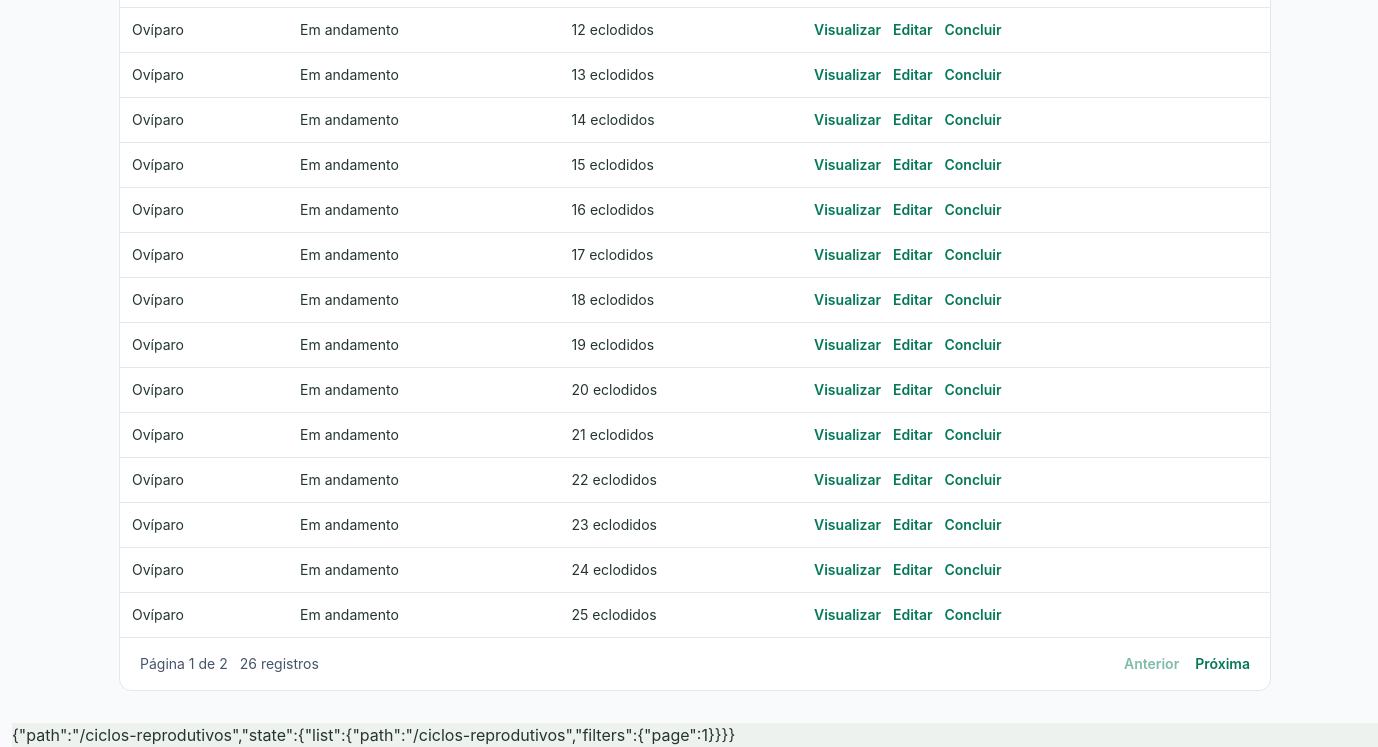
Scenario: ReproductiveCycleListPage pagination › ignores late page and filter responses after a newer query succeeds
(page scrolled)
Expected: the text "25 eclodidos" is shown, x1=560 y1=592 x2=802 y2=637
Click the button "Próxima".
click(1223, 664)  # box x1=1195 y1=654 x2=1250 y2=674
(page scrolled)
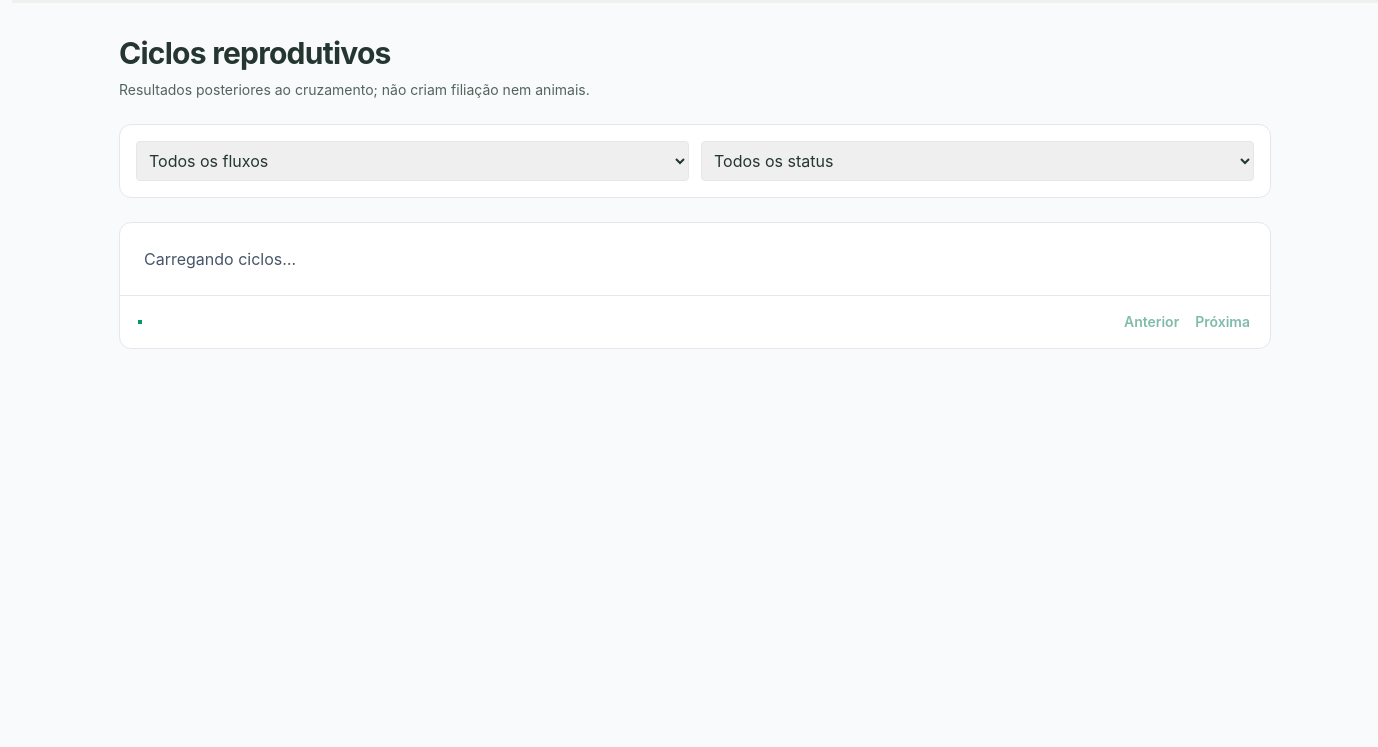
Select "Gestacional" in the dropdown named "Fluxo" at (412,161), box x1=136 y1=141 x2=689 y2=181
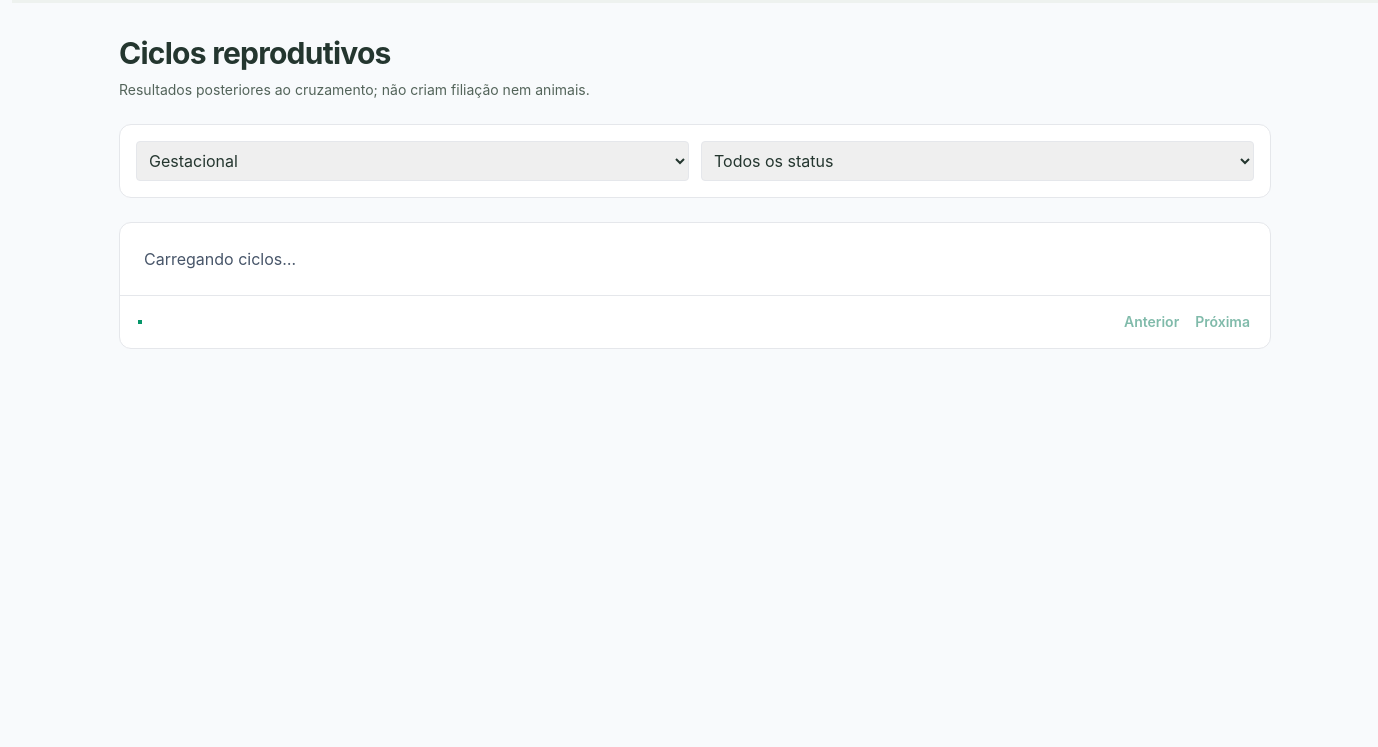
Select "Concluído" in the dropdown named "Status do ciclo" at (978,161), box x1=701 y1=141 x2=1254 y2=181
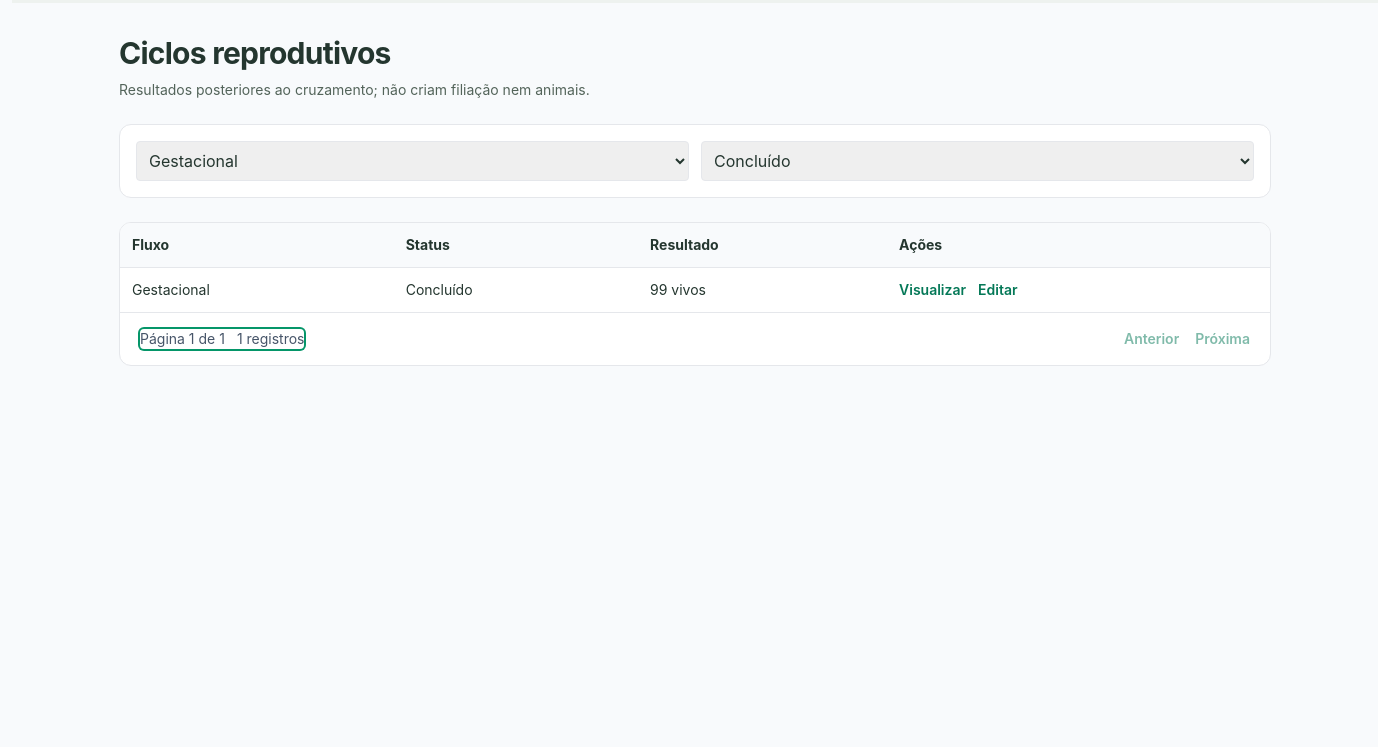
Expected: the text "25 eclodidos" is not shown
Now the text "99 vivos" is shown, box x1=638 y1=268 x2=887 y2=312
Now the text "1 registros" is shown, box x1=237 y1=330 x2=304 y2=347
